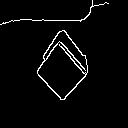cube: (34, 26, 106, 106)
